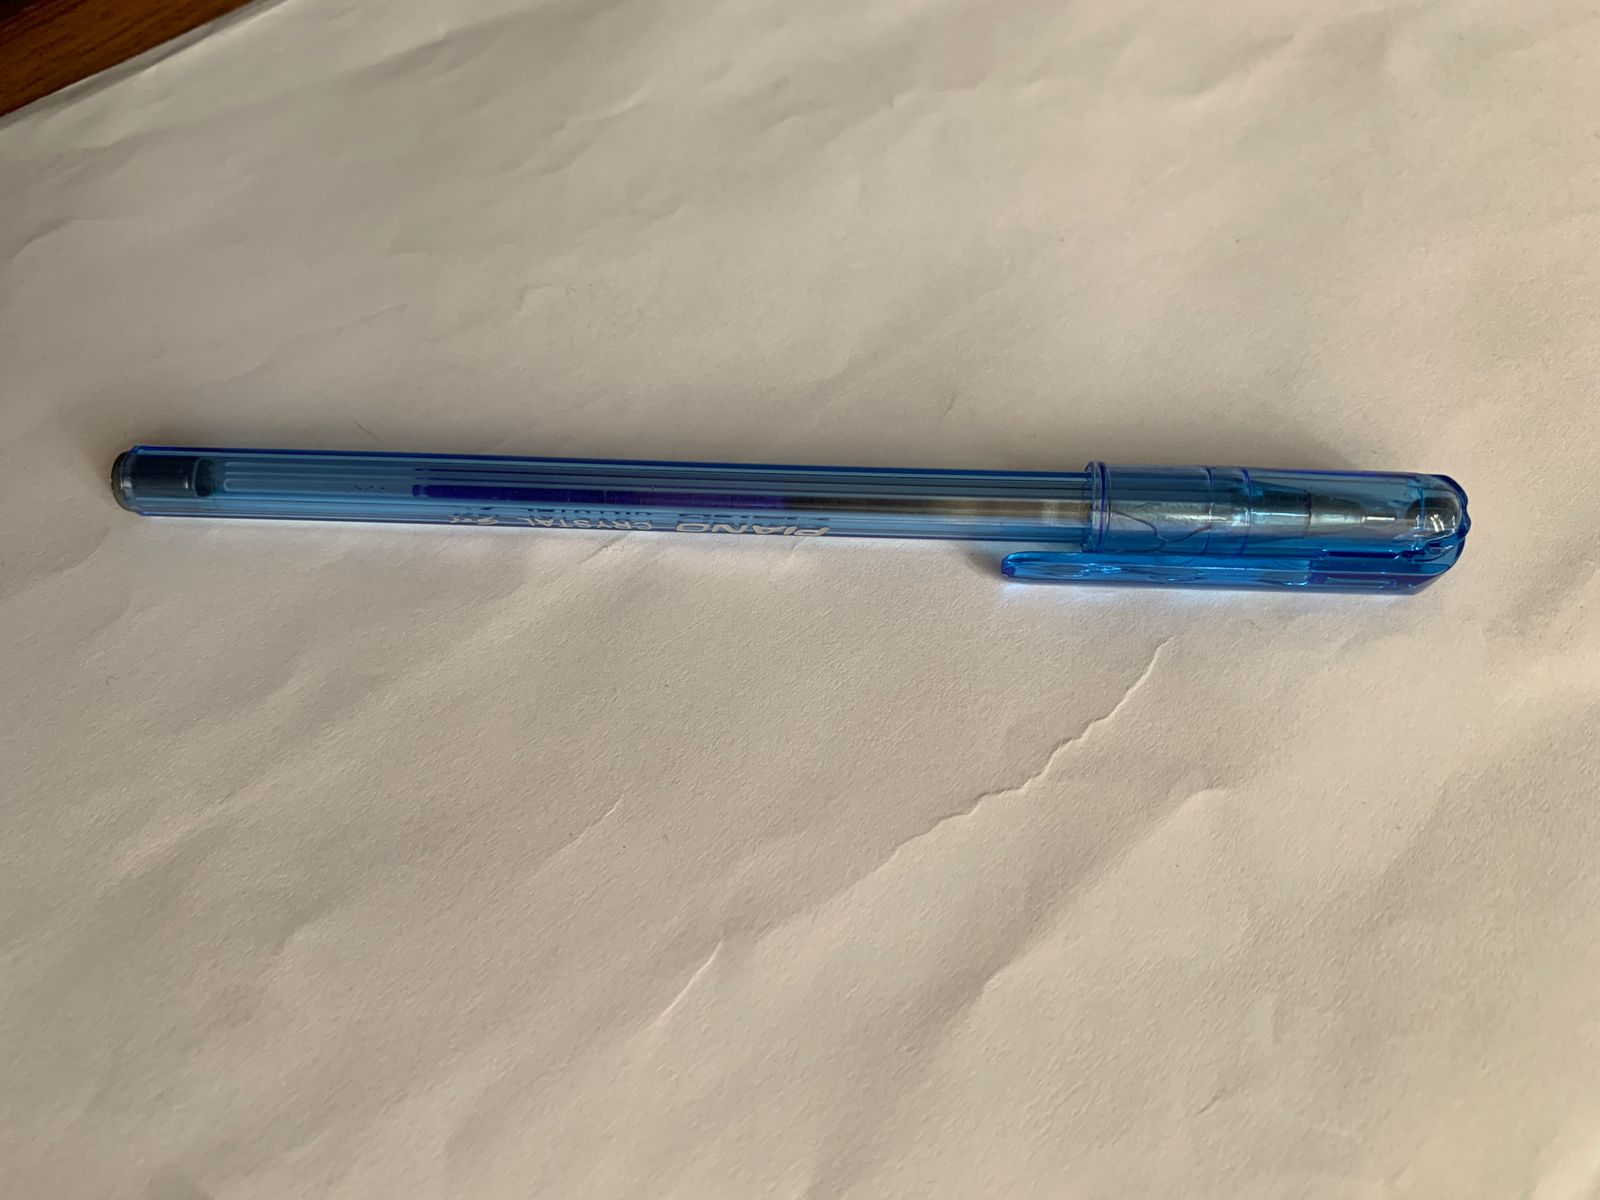pen: (60, 294, 1534, 771)
